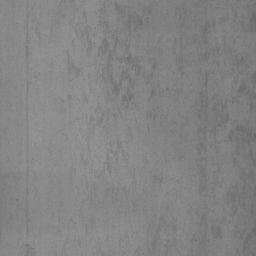Silk spot: (51, 0, 184, 208), (167, 0, 256, 256), (93, 206, 177, 256), (47, 200, 96, 233), (144, 152, 169, 187), (118, 200, 147, 216)
